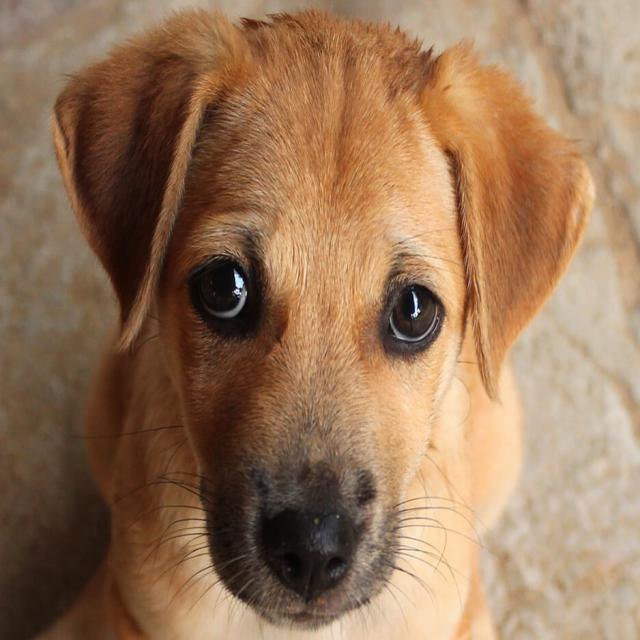eye: (186, 250, 257, 334), (380, 278, 446, 351)
